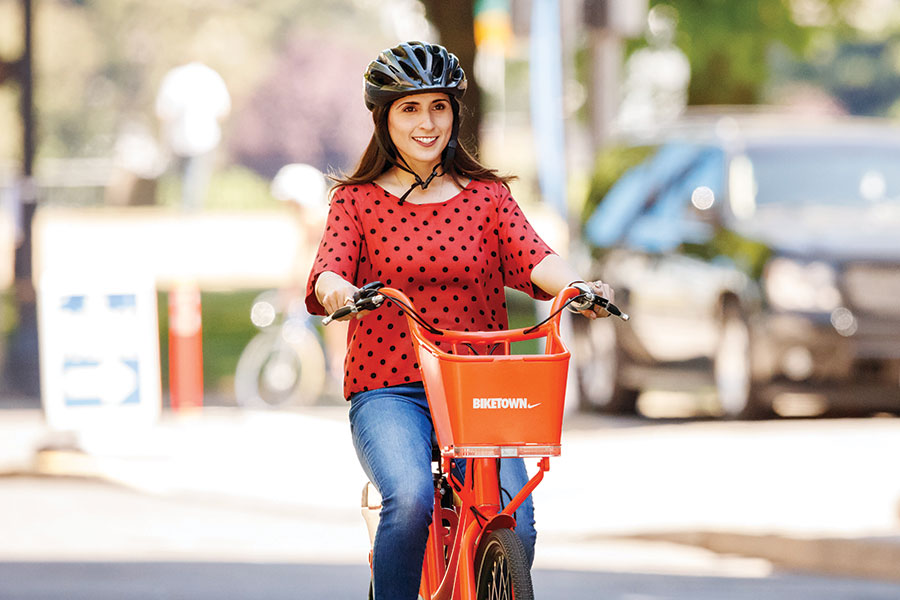with_helmet: (356, 41, 482, 97)
